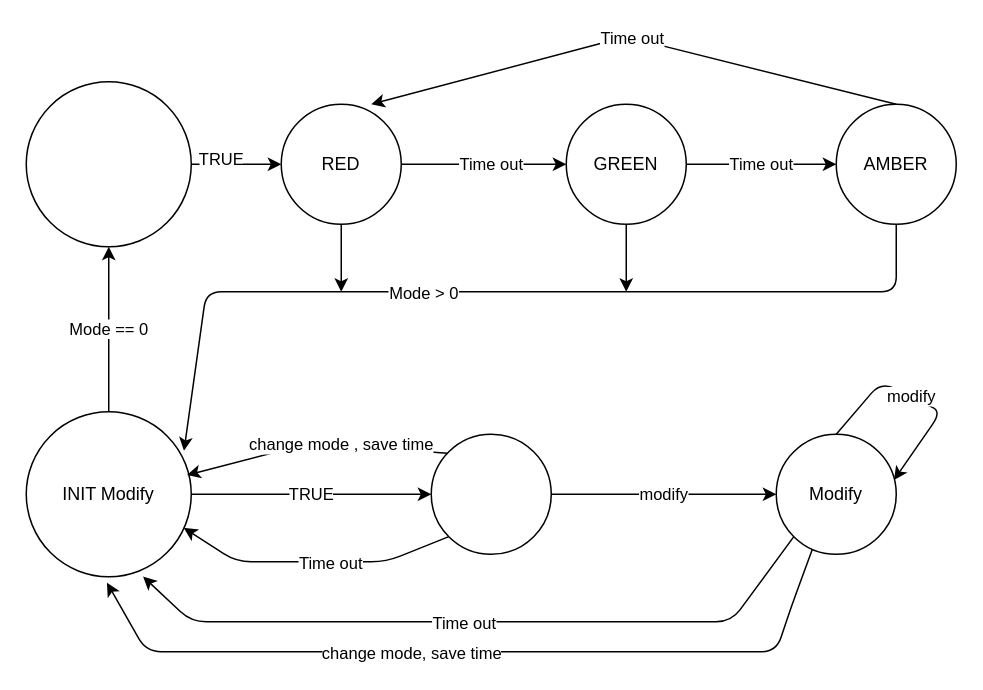
This 983x690 diagram has some shape labels left out. Each missing label, with the box of its shape:
INIT NORMAL: (25, 80, 191, 247)
Wait modify: (430, 433, 551, 554)
